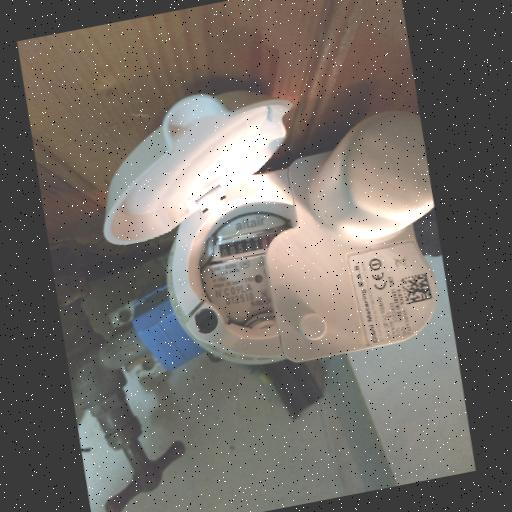0: (218, 243, 231, 258), (259, 235, 272, 250), (228, 241, 239, 256)
1: (251, 237, 263, 252)
5: (236, 240, 246, 254)
9: (243, 238, 255, 253)
border_water_meter_number: (217, 231, 287, 260)
